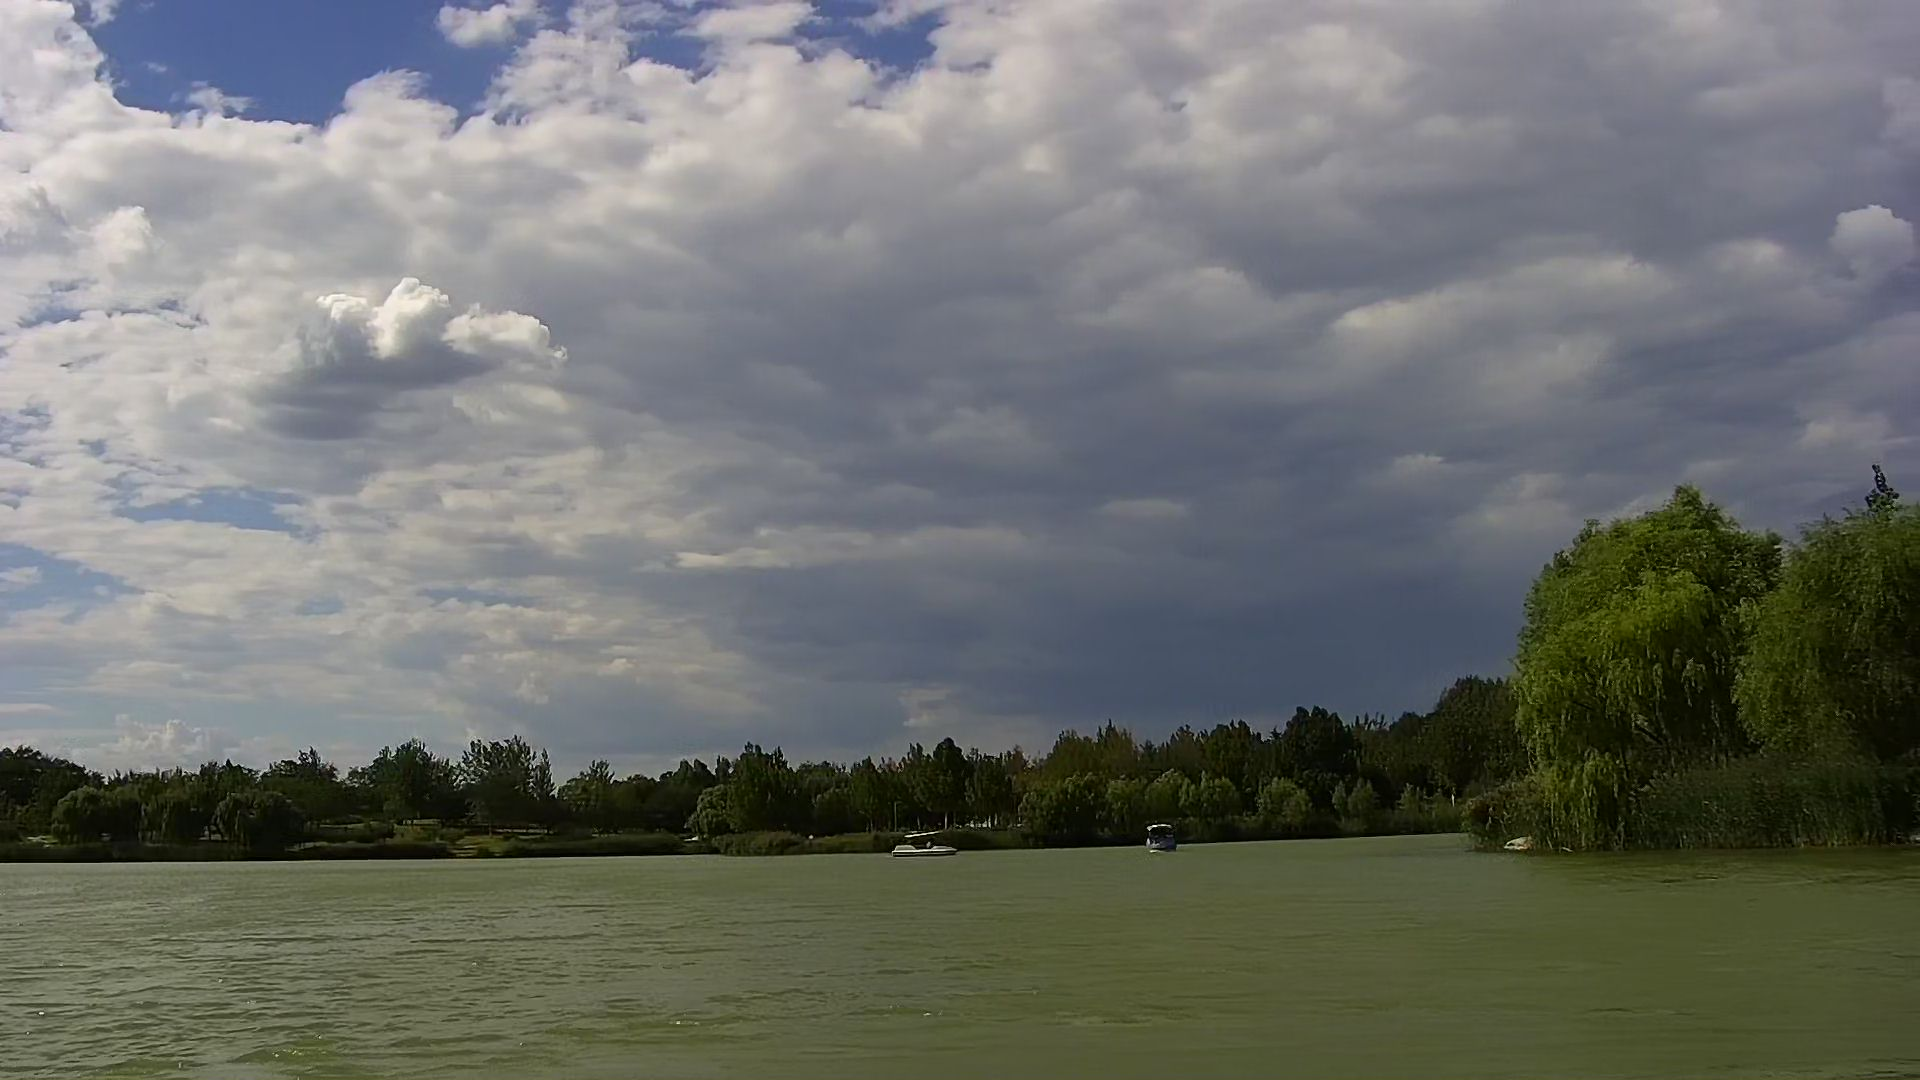boat: (884, 825, 957, 855), (1145, 822, 1171, 852)
rock: (1506, 833, 1538, 851)
